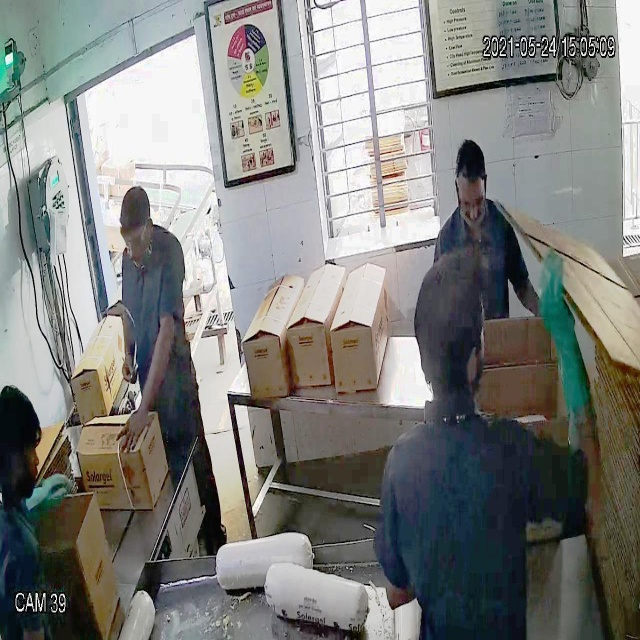Gafas: (118, 225, 153, 256)
